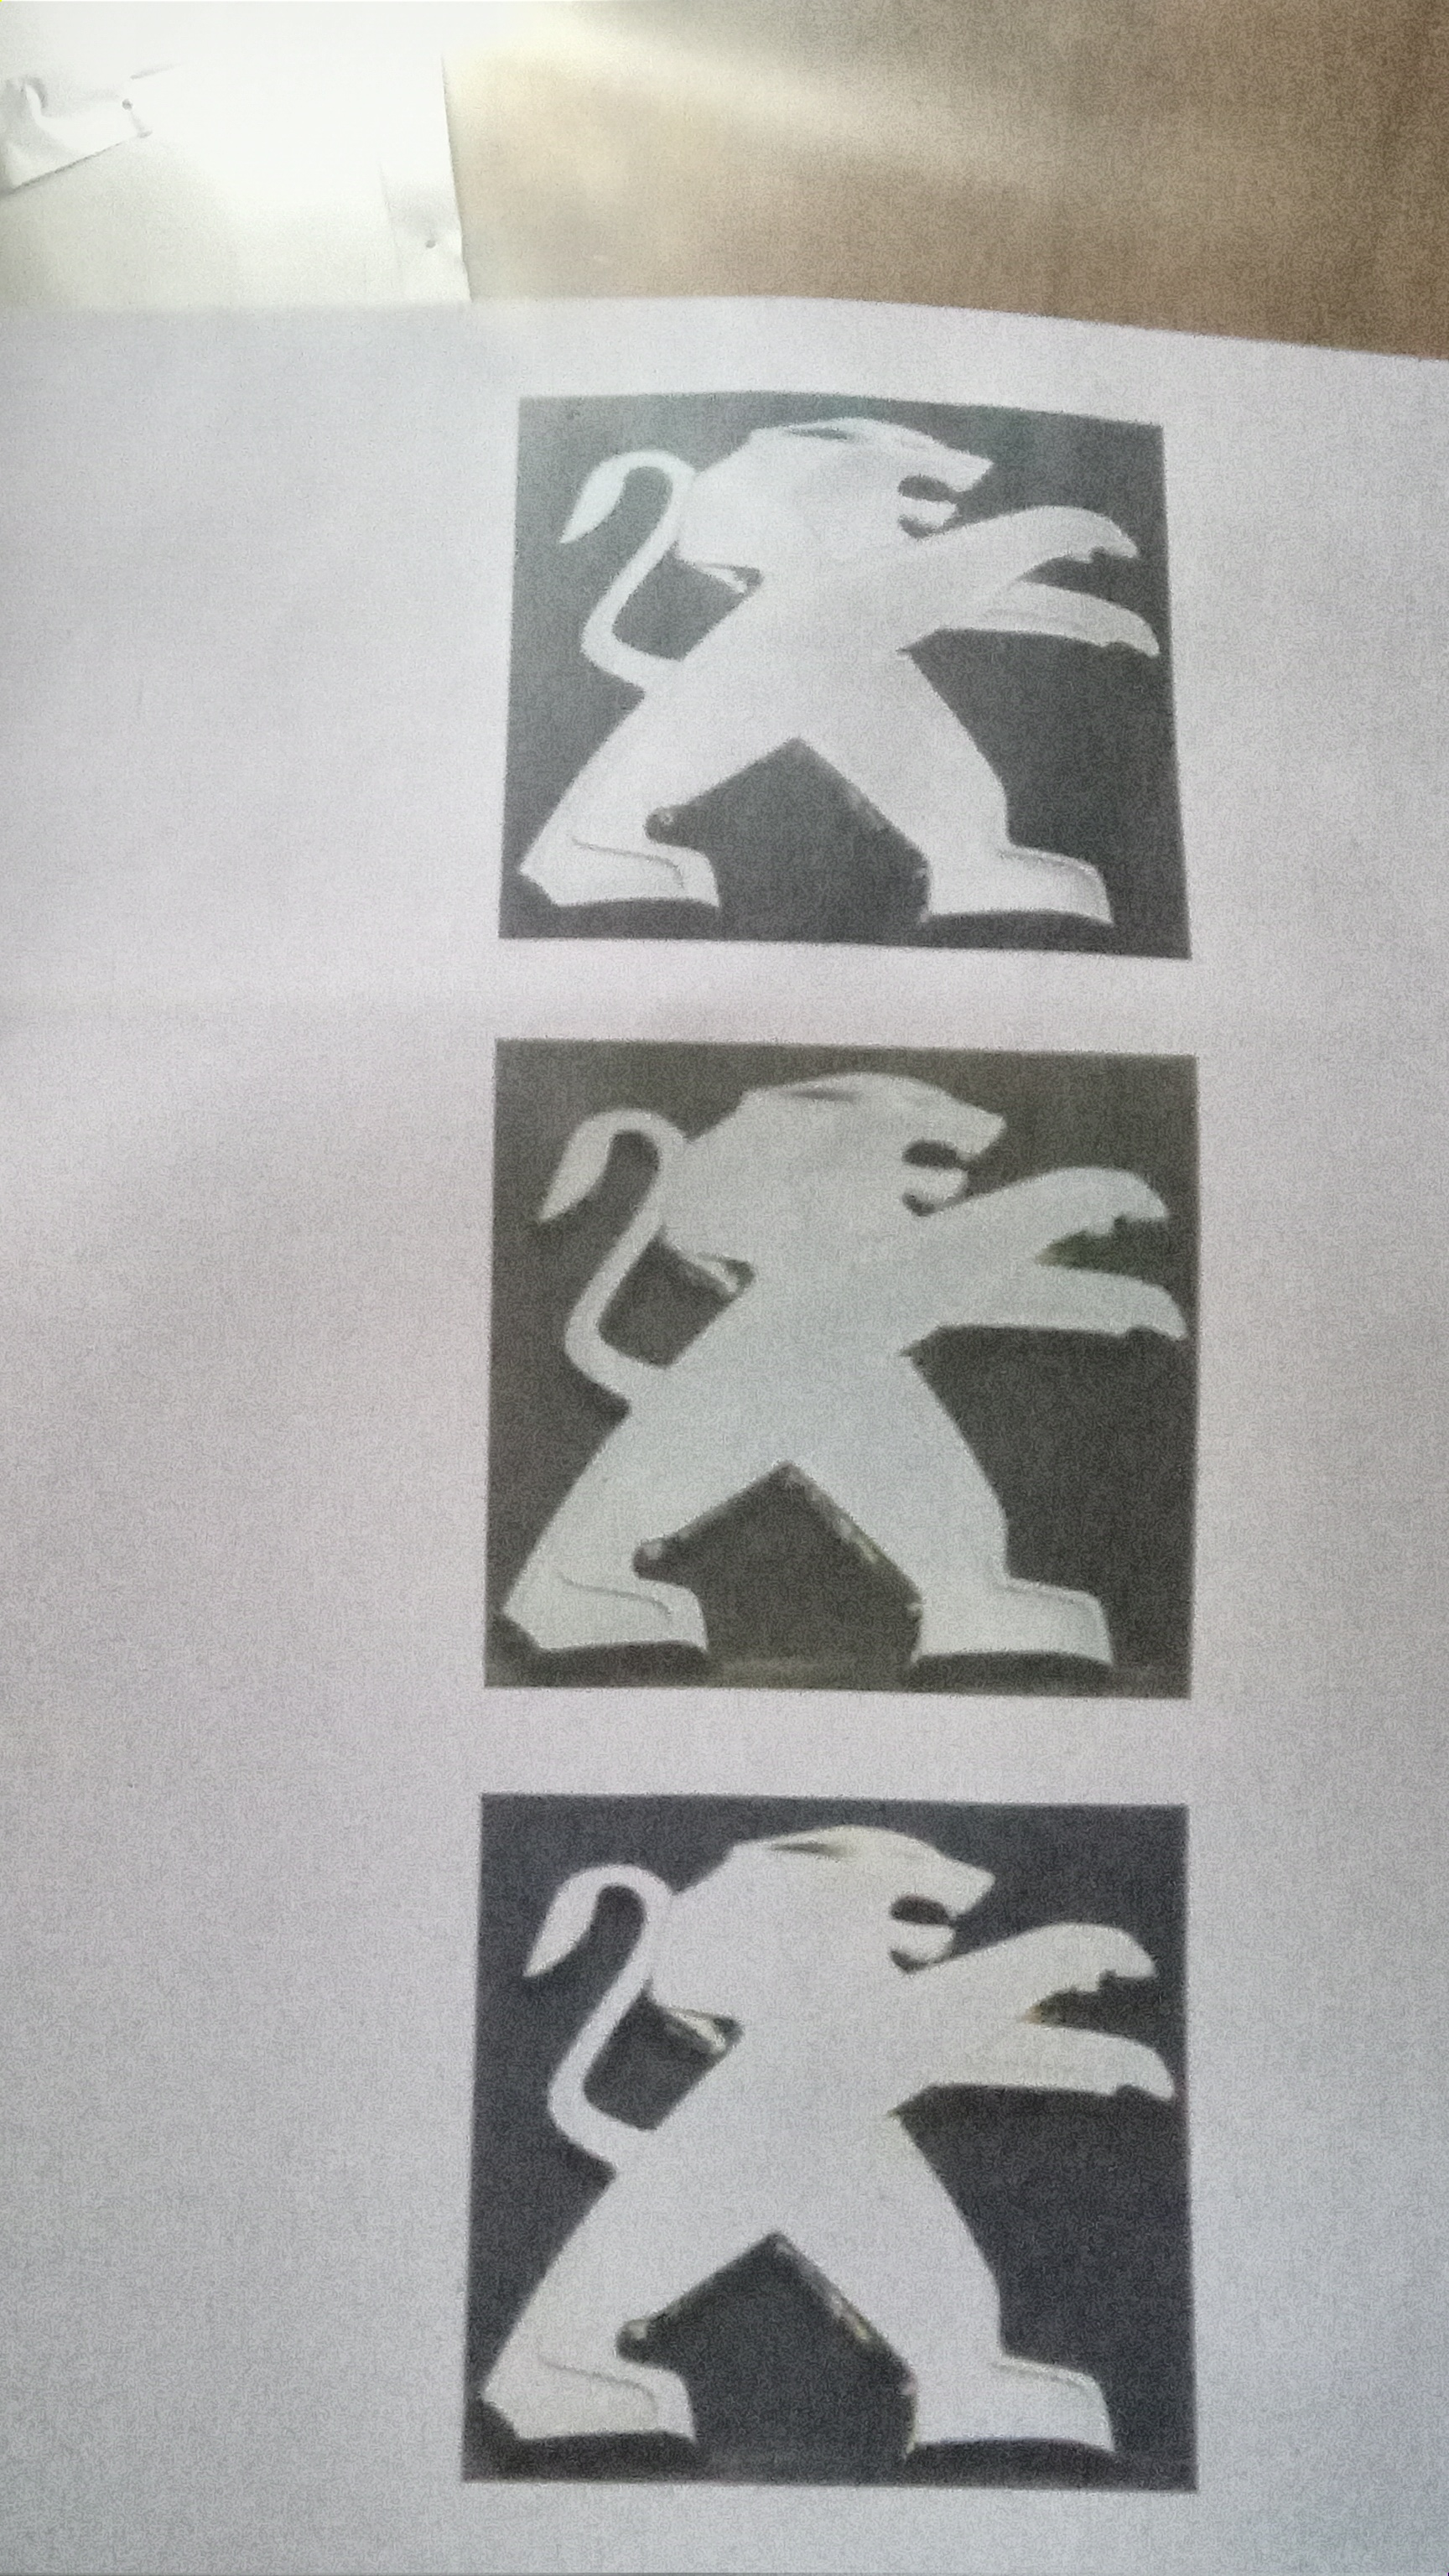Peugeot: (483, 1798, 1180, 2484), (495, 1042, 1201, 1690), (511, 403, 1177, 941)
